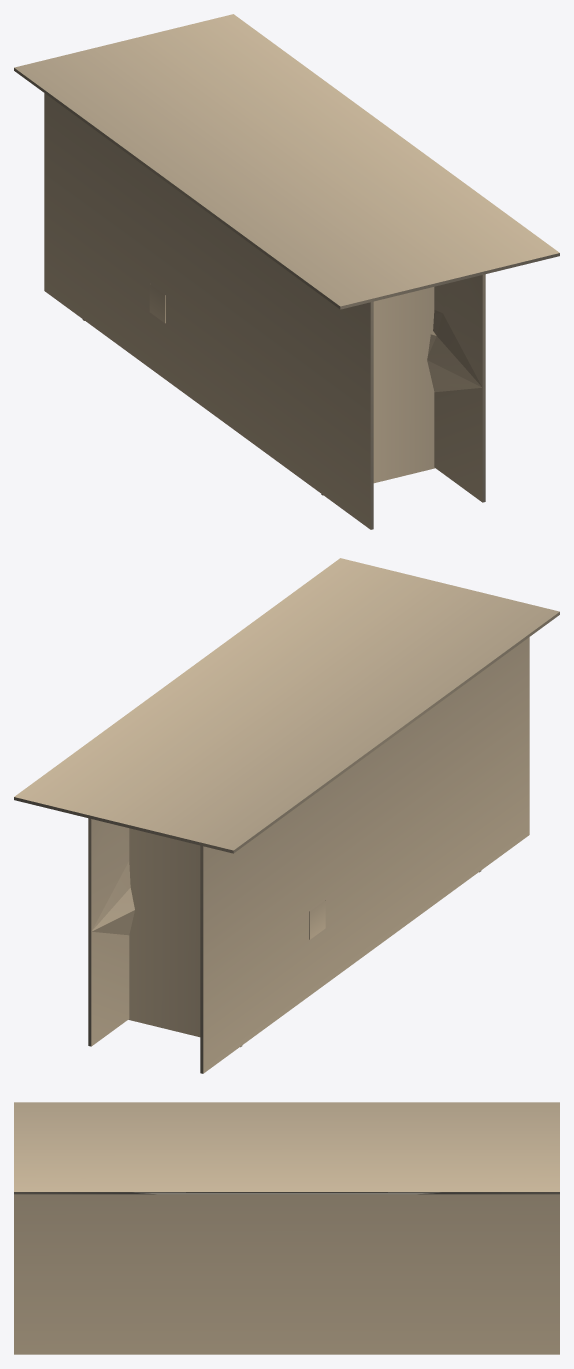
Rendered from LeverRoom2.obj.
3 renders of one model, top to bottom at view 1: azimuth 30°, elevation 25°; view 2: azimuth 150°, elevation 25°; view 3: azimuth 270°, elevation 25°, orthographic. The views are drawn at different scales.
Parts seen in each view (by area): view 1: polySurface1873; view 2: polySurface1873; view 3: polySurface1873.
Boxes of the visible parts, x1=… form: polySurface1873: x1=14, y1=14, x2=559, y2=529; polySurface1873: x1=14, y1=558, x2=559, y2=1073; polySurface1873: x1=14, y1=1102, x2=559, y2=1354.
Bounding box in the file's own units: 73.81 × 74.48 × 190.
3 materials, 1 textured.
